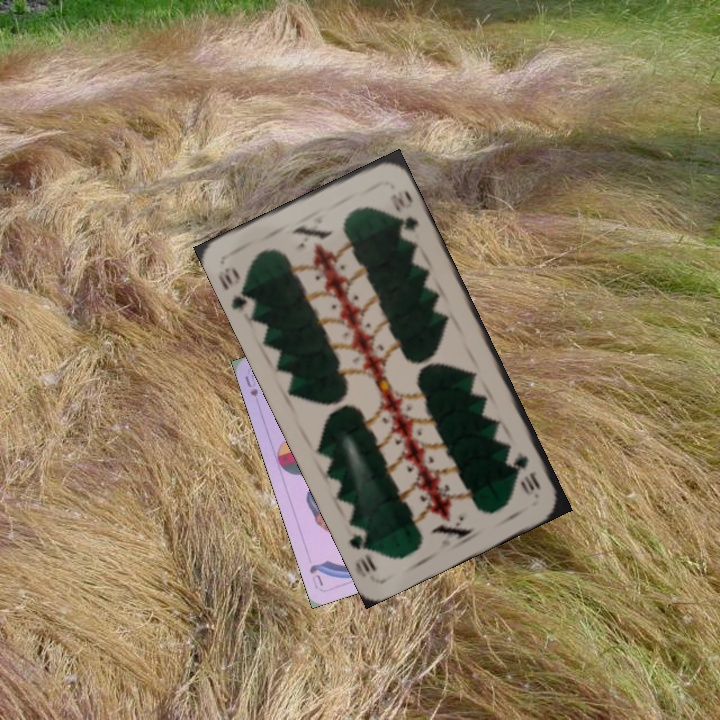G10: (214, 263, 259, 313), (510, 448, 544, 496)
SU: (241, 370, 261, 399)
